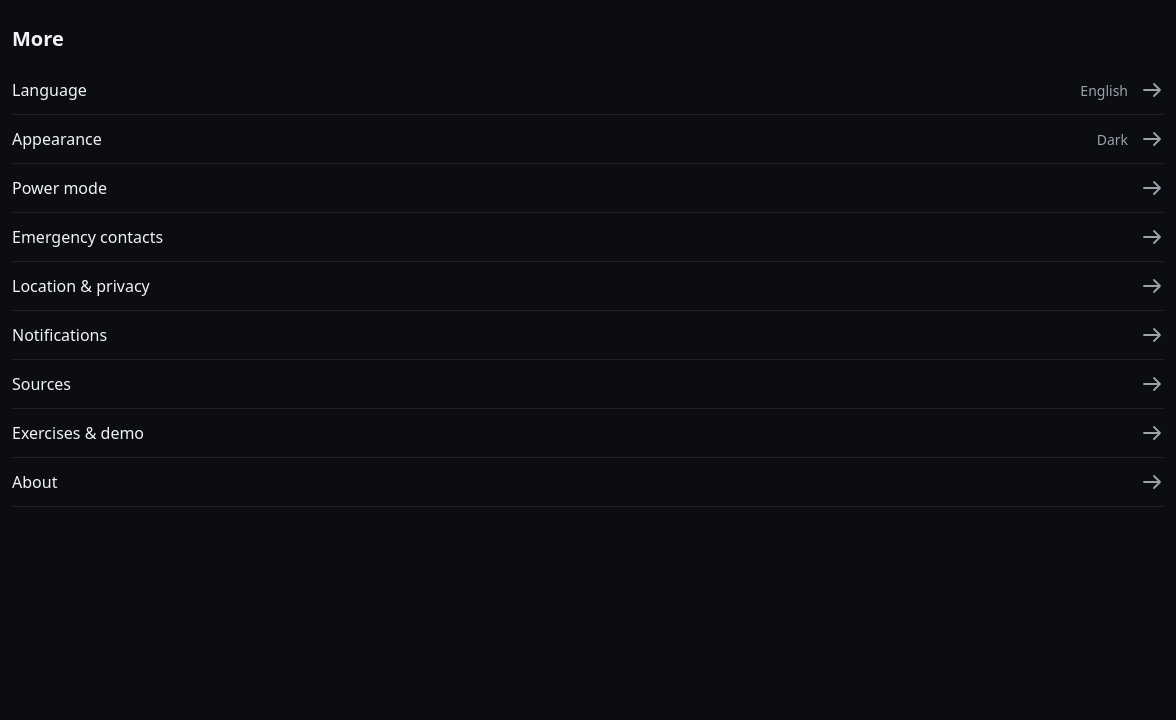
Test: More hub: privacy sentence and desktop wiring › shows the handoff card only when the hub is given a link (desktop)
Click the button with class "ui-row" showing "About" at {"x": 35, "y": 482}, box 12,458 -> 1164,507
(page scrolled)
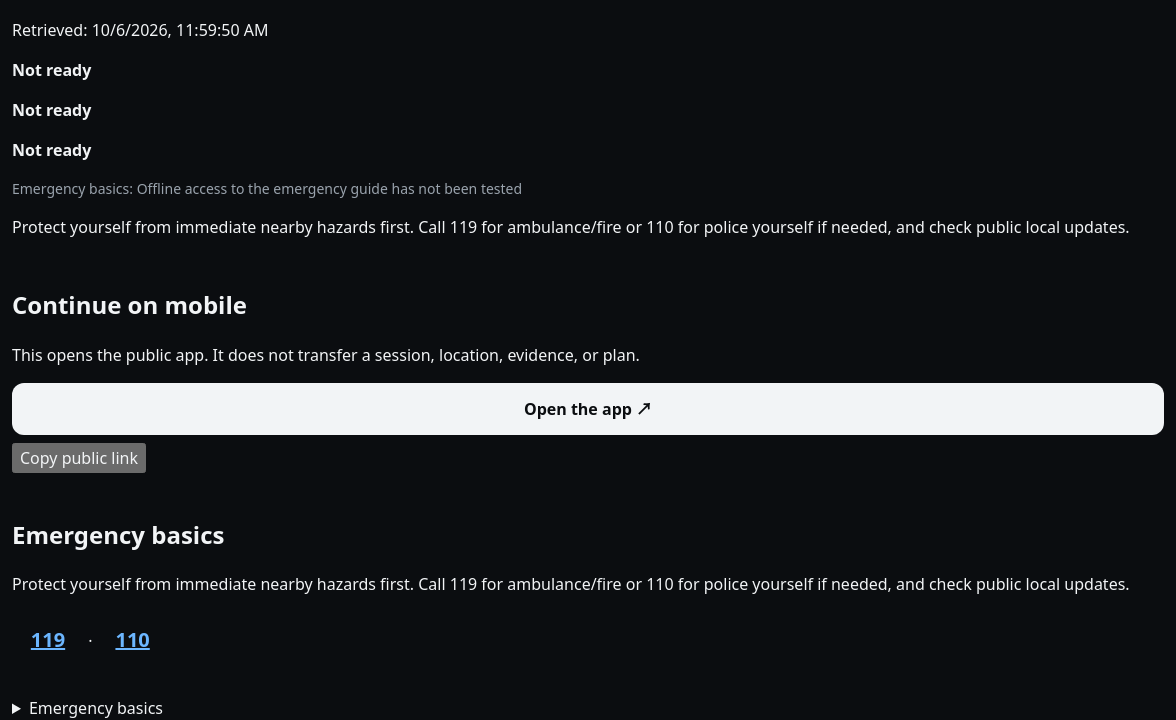
Check: the element with class "handoff-card" is shown, box 12,267 -> 1164,485
